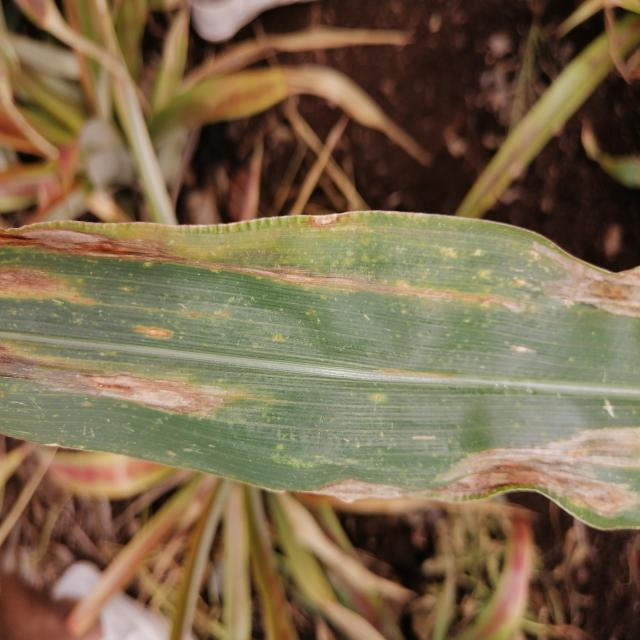Corn_Leaf_Blight: (3, 204, 640, 527)
